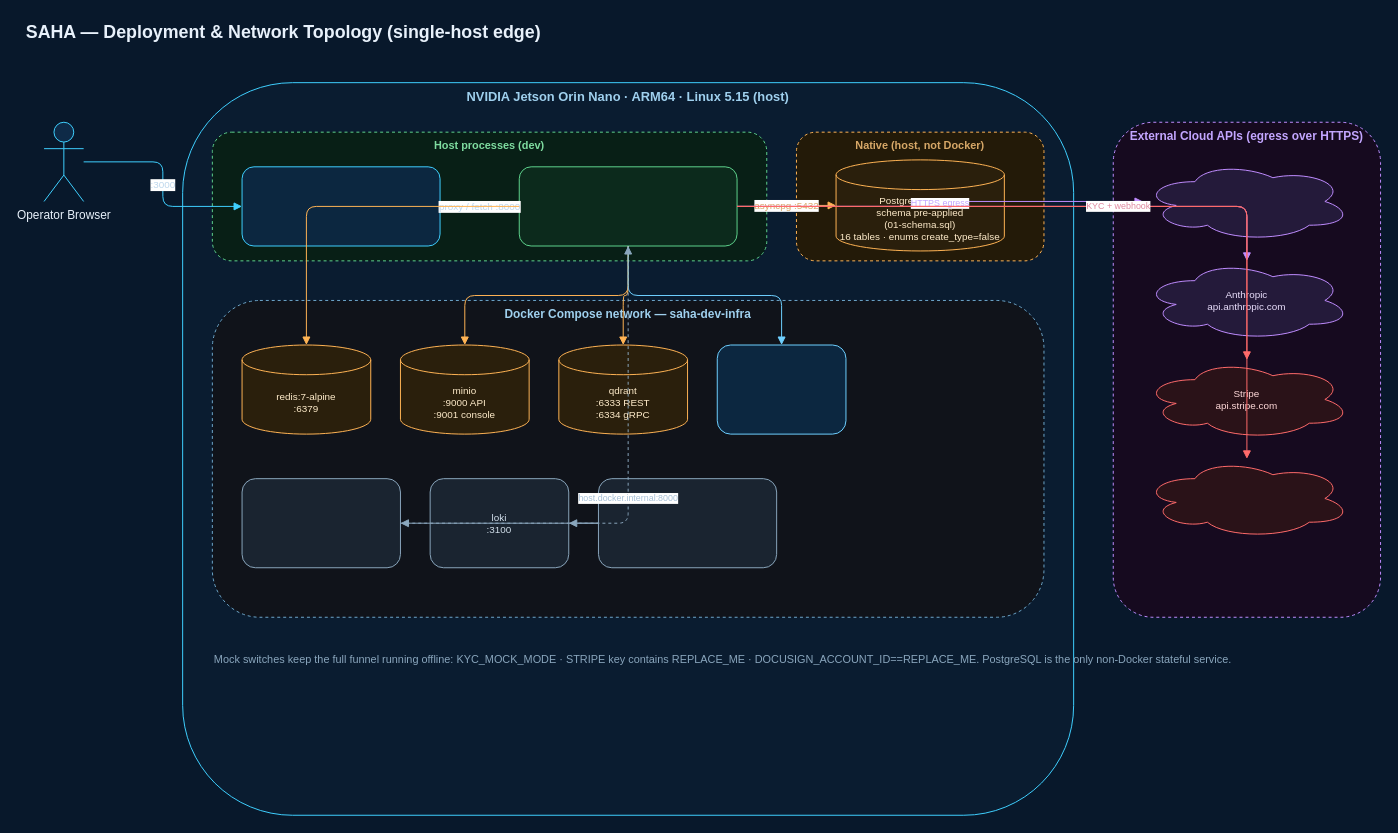
Some shapes in this 1398 by 833 pixel diagram are drawn without their labels. Here are the shapes that lost their labels. From the top down, the centre of each, then its label:
[340,206]: Next.js 15 :3000 (pnpm dev)
[627,206]: FastAPI / uvicorn :8000 (uv run) · /metrics/
[1246,201]: NVIDIA NIM integrate.api.nvidia.com
[781,389]: mailpit :1025 SMTP :8025 UI
[1246,498]: Persona withpersona.com
[320,523]: prometheus :9091→9090 scrape /metrics/
[687,523]: grafana :3001→3000 depends_on: prom, loki
